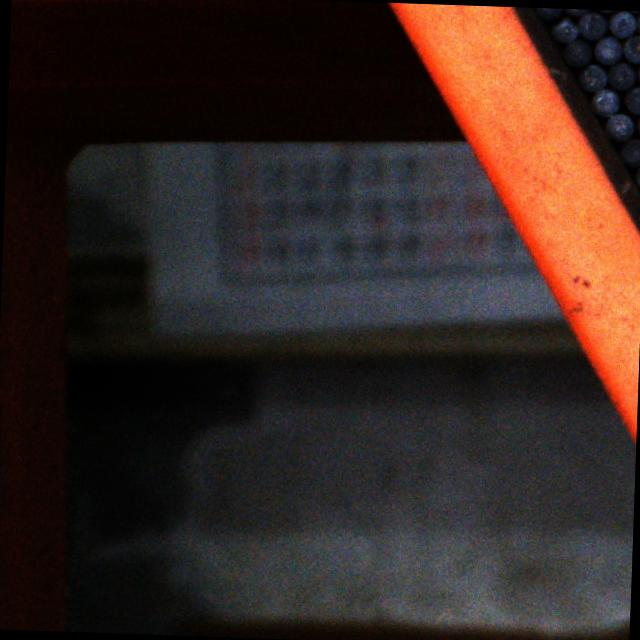tool: (604, 112, 632, 142), (590, 87, 618, 116), (606, 61, 635, 89), (562, 38, 590, 66), (607, 10, 635, 38), (578, 64, 606, 91), (579, 12, 606, 39), (594, 36, 620, 64), (549, 18, 579, 42), (619, 138, 640, 166), (623, 84, 640, 113), (622, 36, 640, 62), (534, 7, 560, 18), (636, 59, 640, 87), (636, 11, 640, 36)
